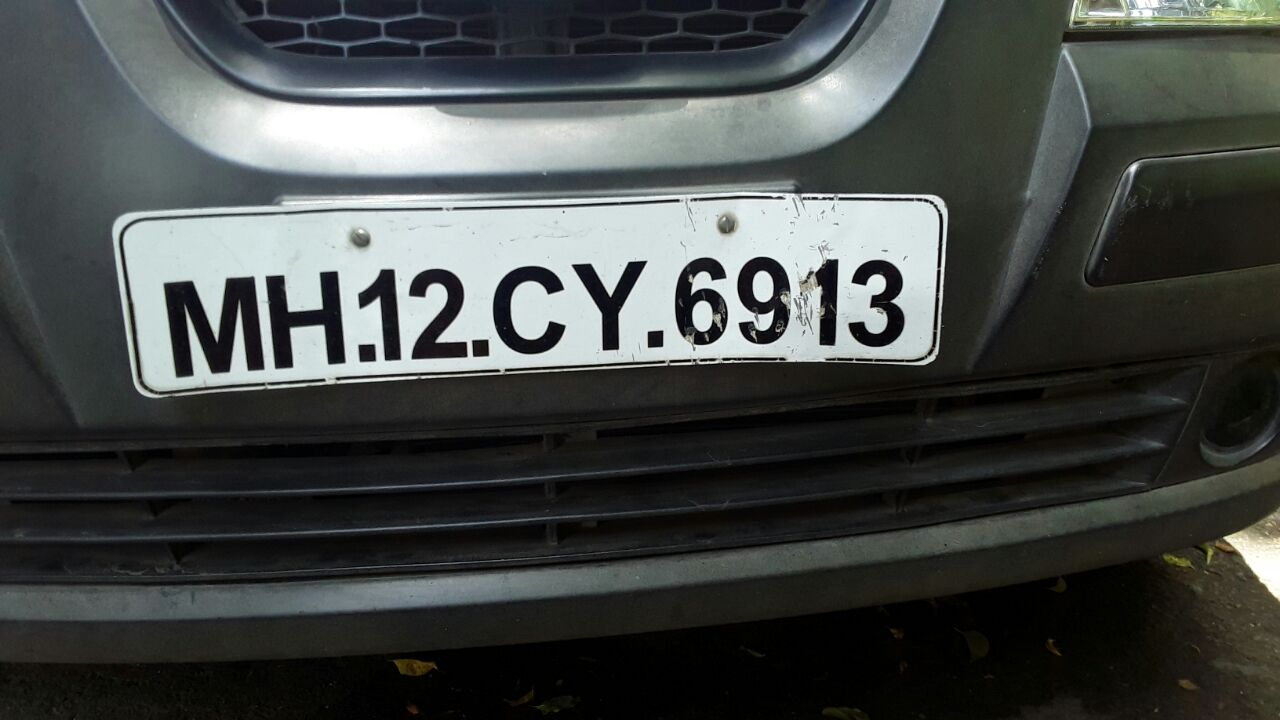licenseplate: (92, 189, 961, 388)
